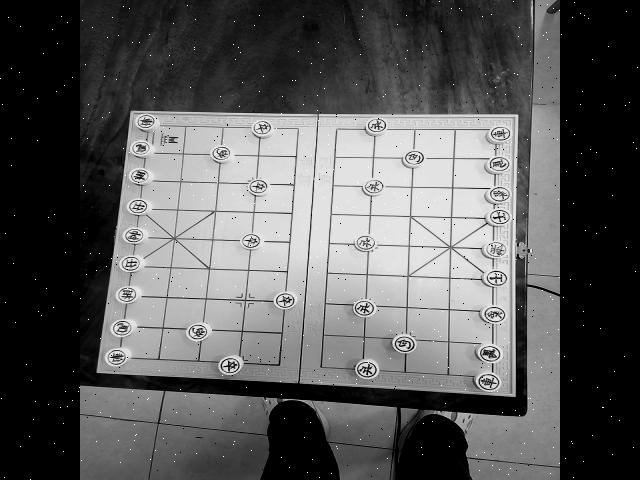piece: (474, 371, 501, 391), (476, 343, 503, 363), (104, 347, 132, 366), (480, 305, 507, 324), (218, 355, 243, 375), (186, 322, 212, 341), (110, 319, 137, 337), (355, 359, 379, 379), (482, 269, 508, 287), (486, 125, 512, 143), (126, 198, 153, 215), (392, 334, 416, 353), (130, 140, 155, 158), (485, 186, 511, 203), (482, 241, 508, 258), (115, 286, 141, 303), (122, 227, 148, 244), (119, 255, 145, 272), (485, 156, 511, 173), (210, 145, 234, 163), (352, 299, 376, 317), (128, 168, 153, 185), (486, 209, 511, 226), (135, 114, 160, 131), (274, 291, 297, 309), (251, 120, 274, 137), (362, 178, 385, 195), (248, 179, 271, 196), (240, 233, 264, 249), (366, 117, 387, 135), (403, 150, 425, 167), (354, 235, 377, 251)
